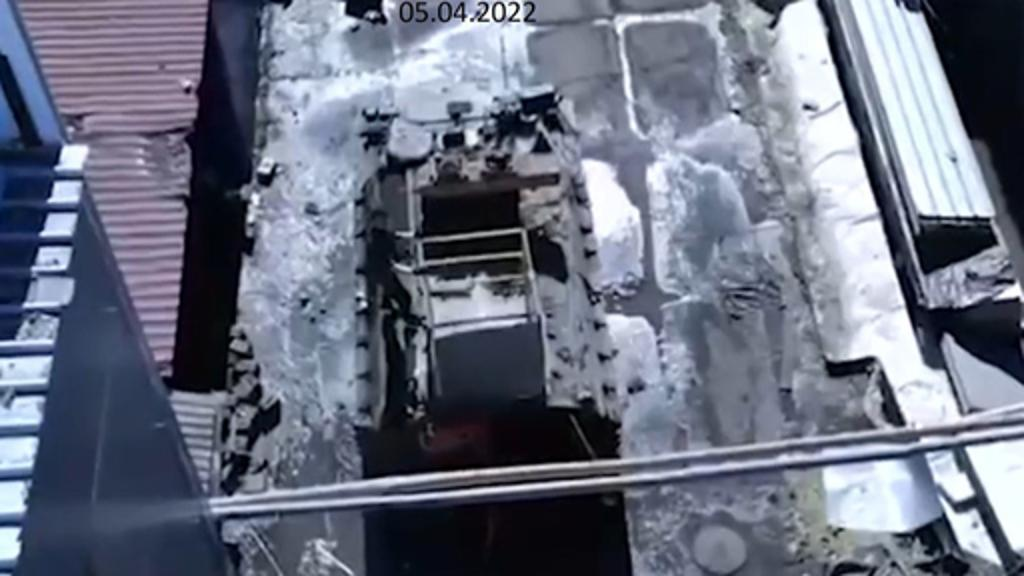APC-IFV: (342, 78, 632, 460)
